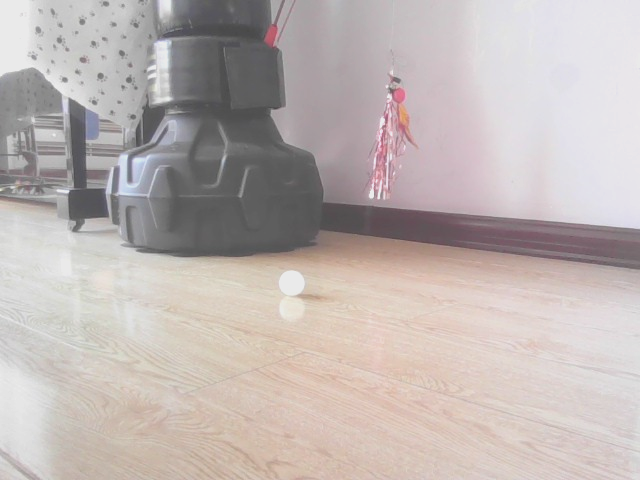ball: (277, 269, 306, 297)
